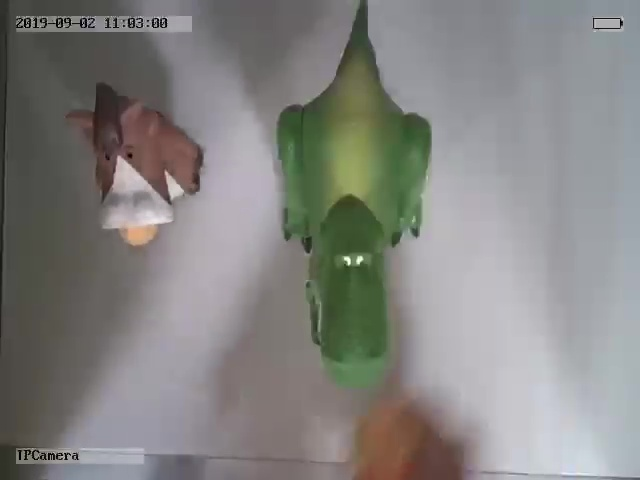horse: (67, 83, 205, 249)
rex: (275, 7, 433, 388)
